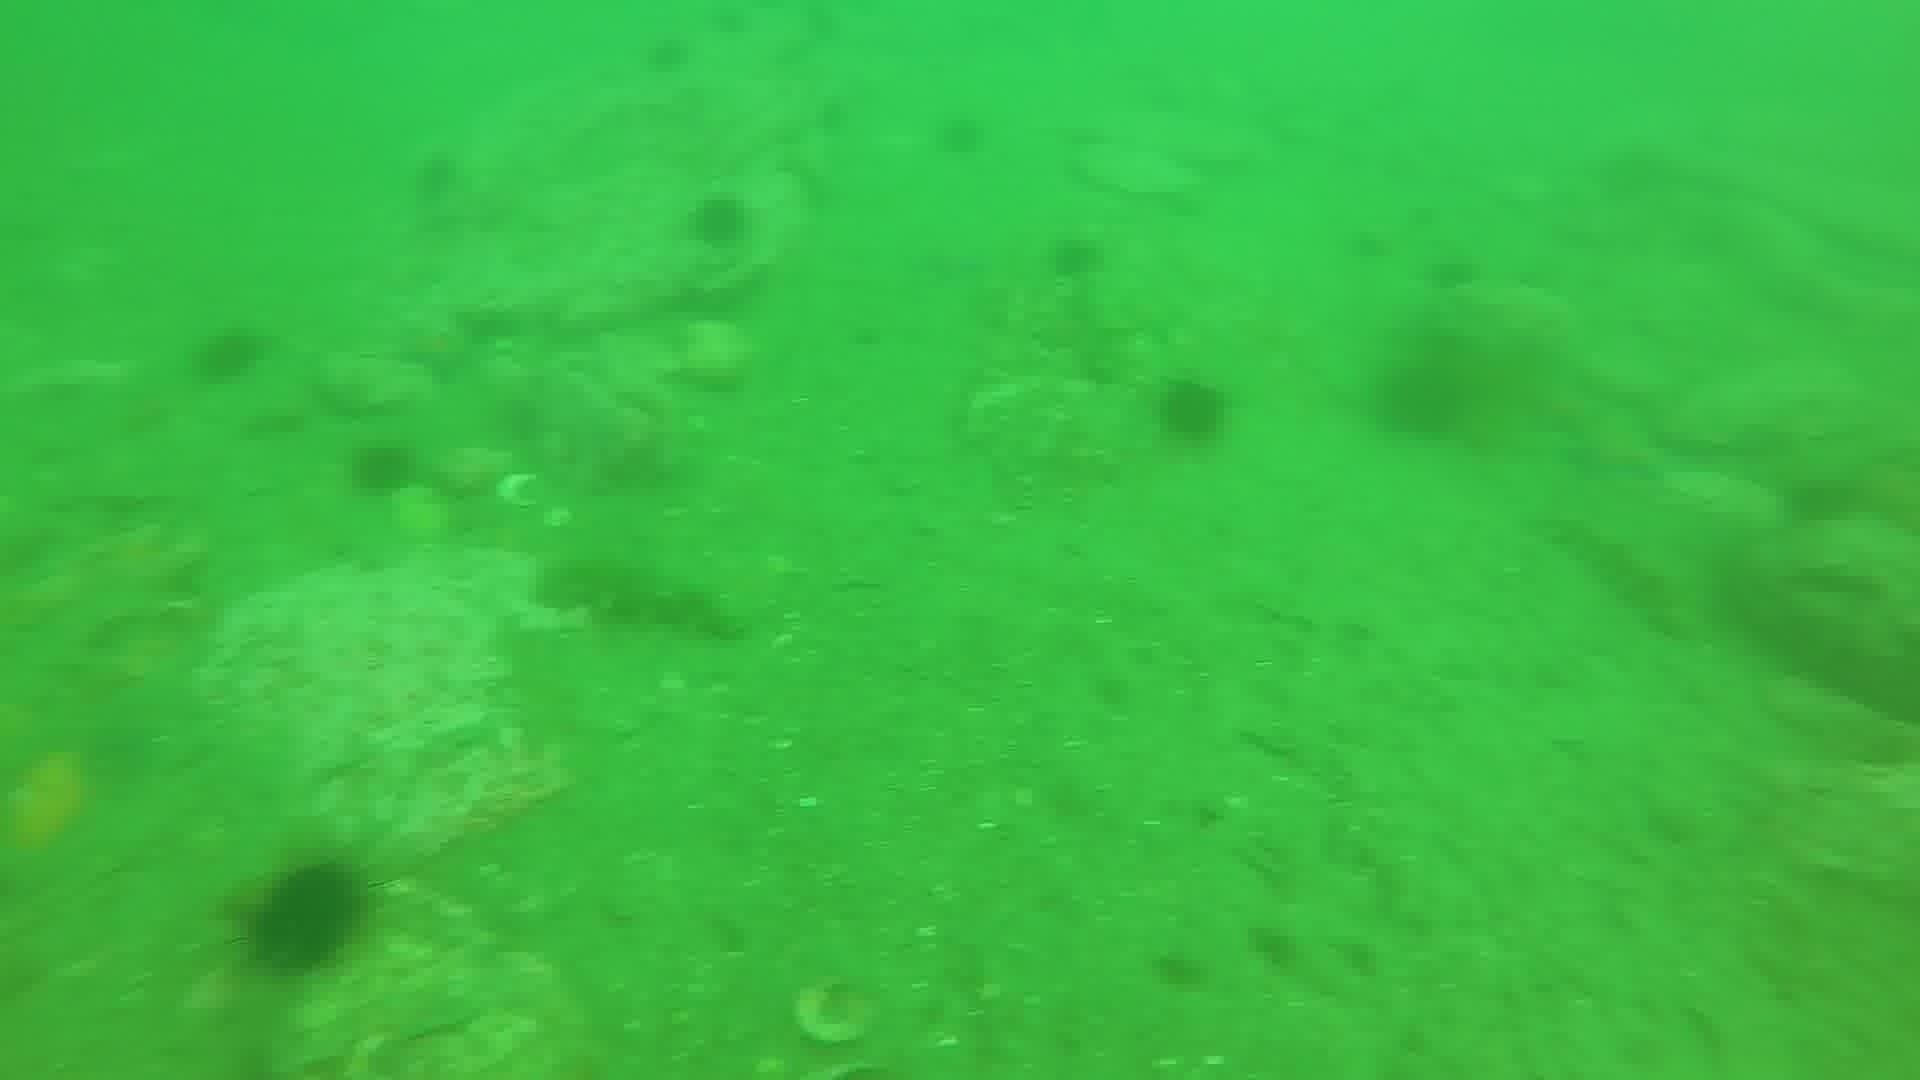echinus: (235, 857, 371, 978), (1370, 353, 1474, 443), (1153, 373, 1233, 448), (190, 320, 269, 386), (343, 436, 419, 502), (682, 189, 756, 253), (1043, 231, 1109, 286), (407, 146, 465, 206), (928, 108, 992, 162), (644, 36, 692, 79)
holothurian: (1539, 506, 1704, 642), (533, 549, 749, 644)
starfish: (1557, 407, 1676, 488), (1027, 295, 1129, 377), (388, 313, 485, 386)
